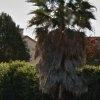Palm tree: (28, 2, 89, 100)
